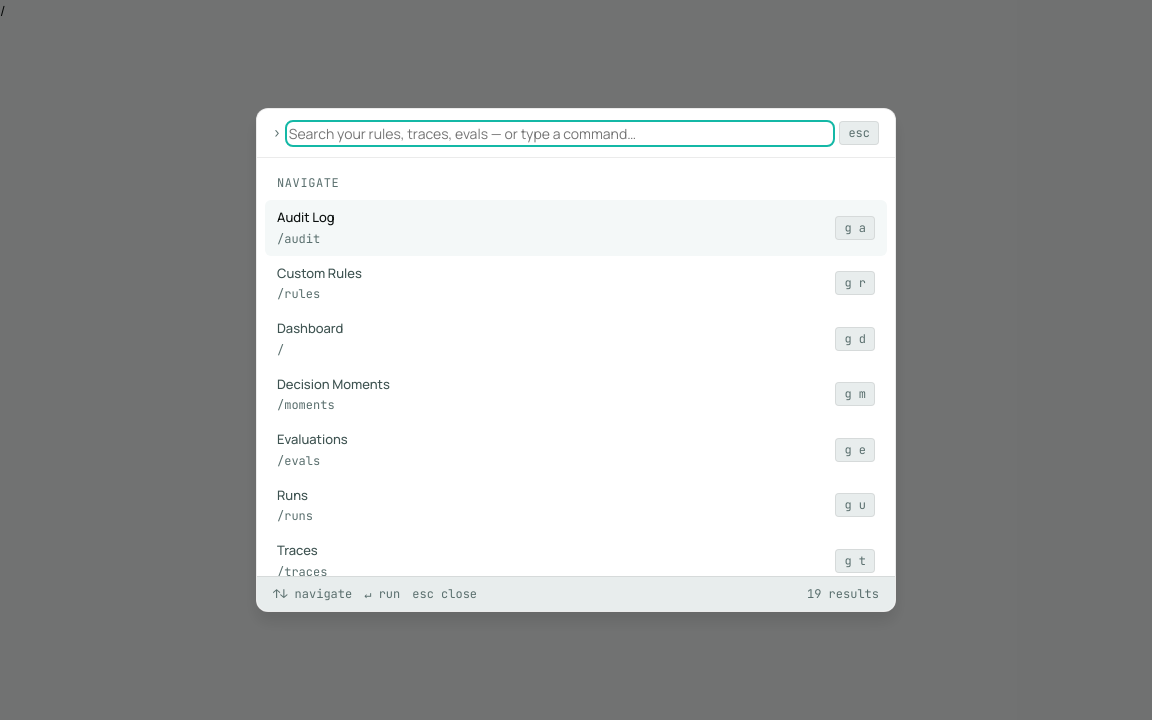
Test: CommandPalette › data search › keeps the surviving sections when one data source fails
Type "checkout" into the dropdown with placeholder "Search your rules, traces, evals — or type a command…".
click(560, 133); type("checkout")  # box [289, 124, 831, 142]
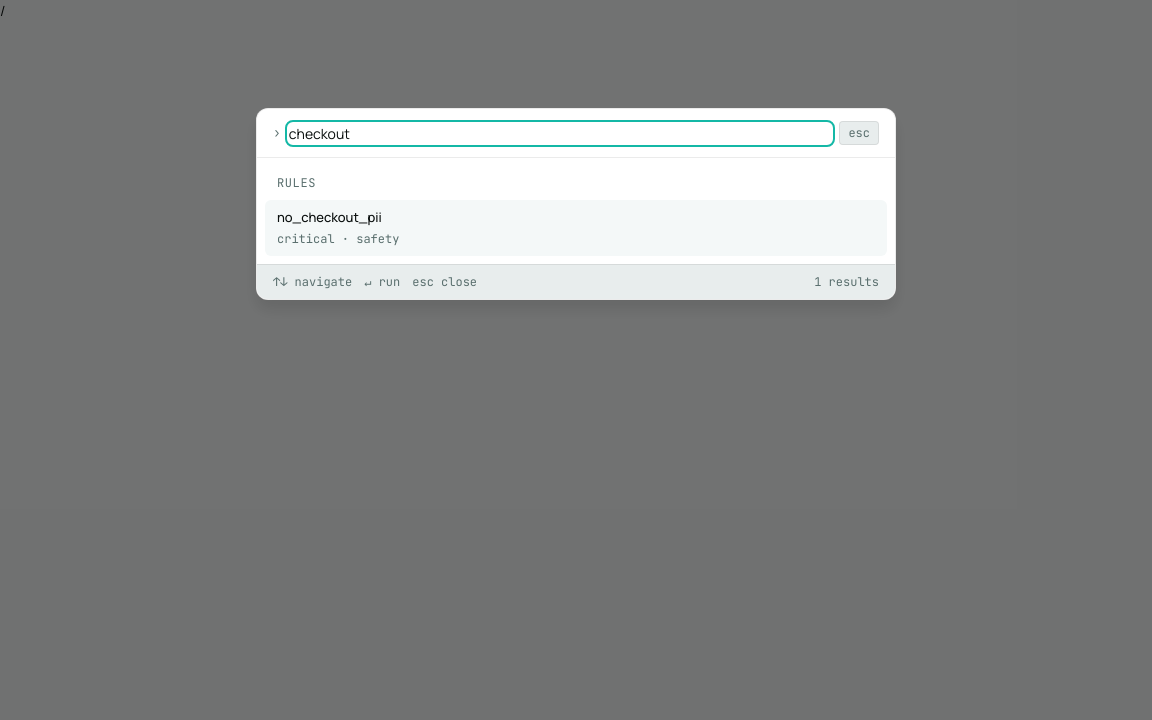
Result: the option "no_checkout_pii critical · safety" is shown at [265, 200, 887, 256]
